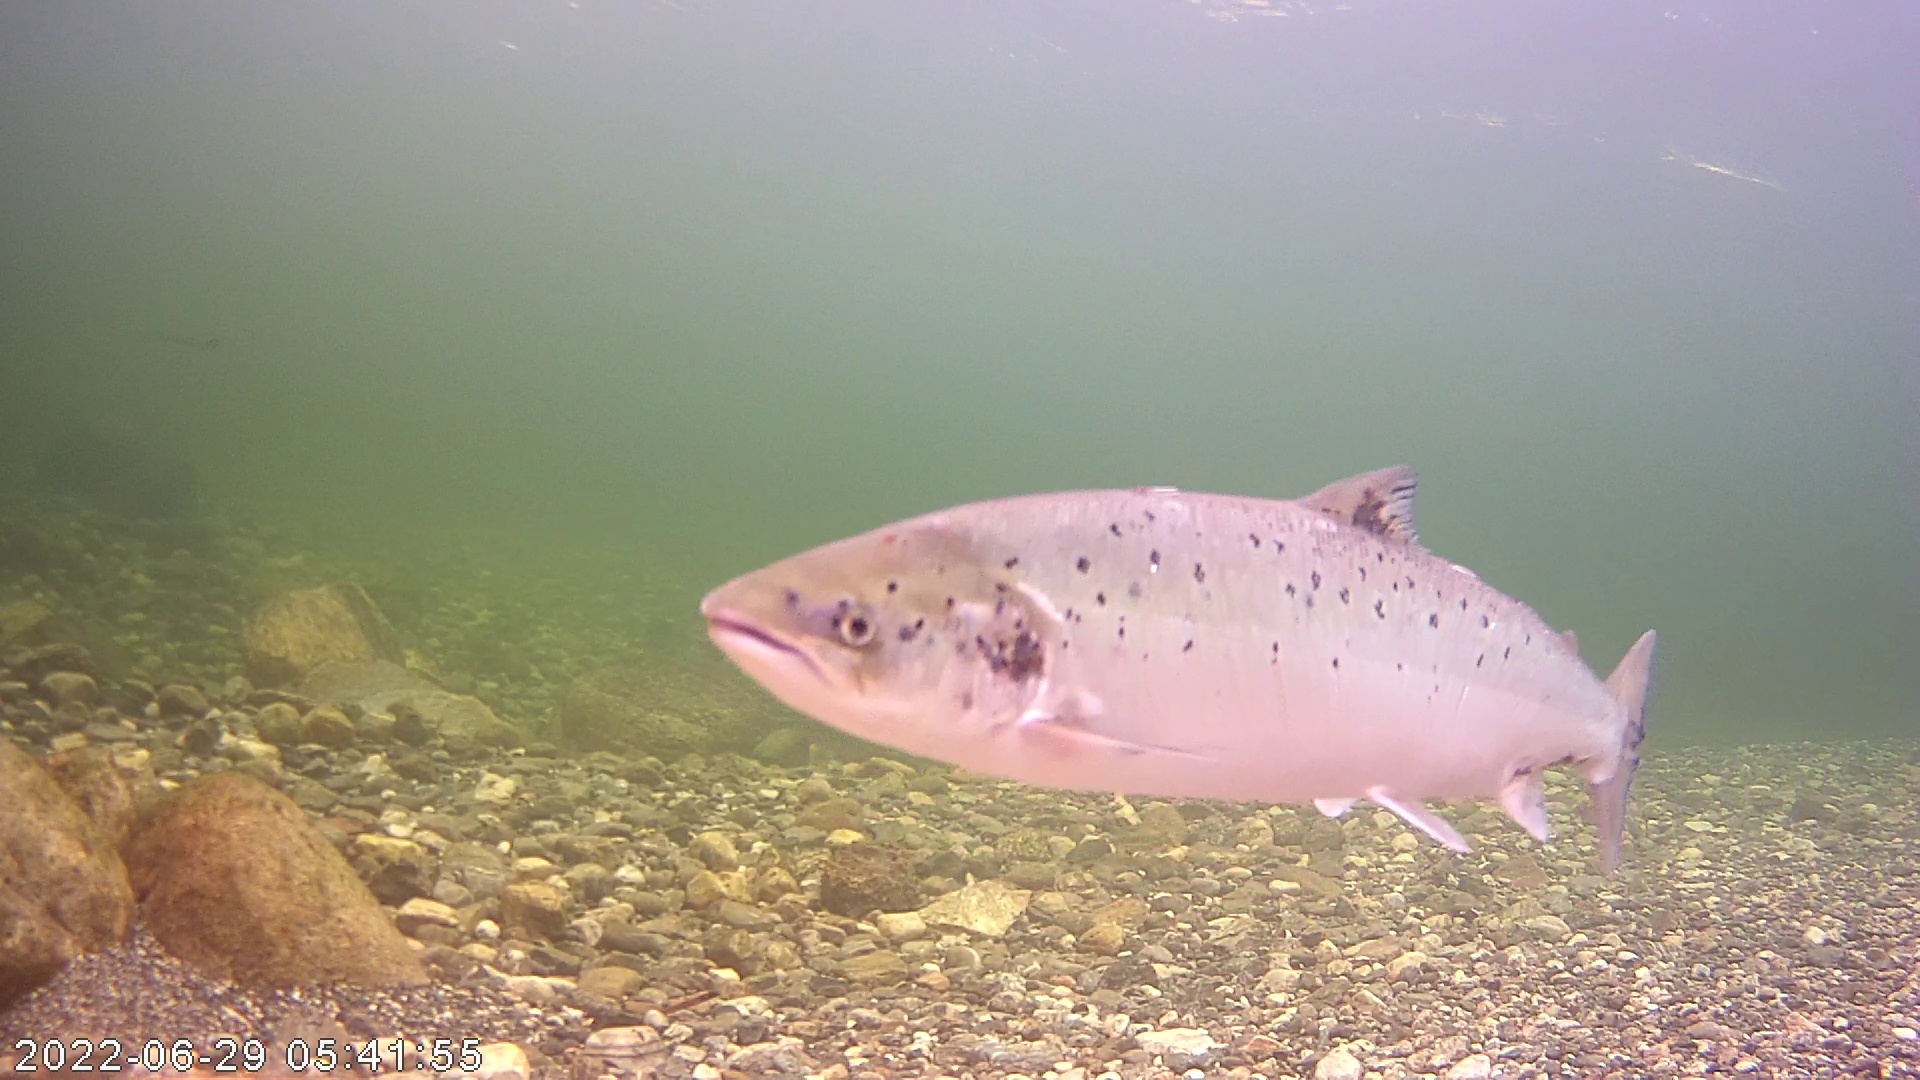salmon: (702, 319, 1665, 822)
